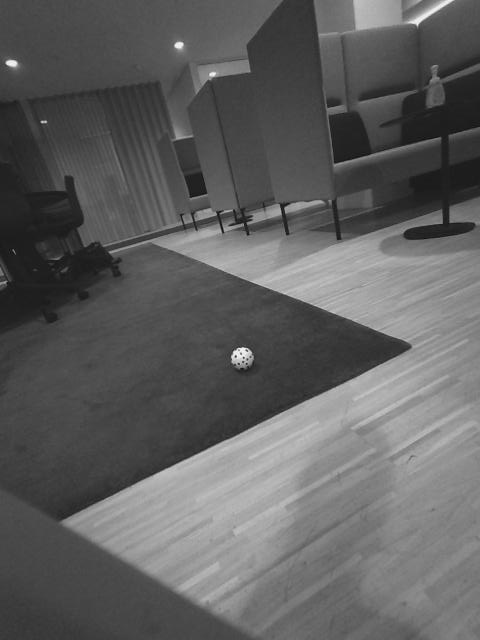dogtoy: (226, 342, 261, 376)
